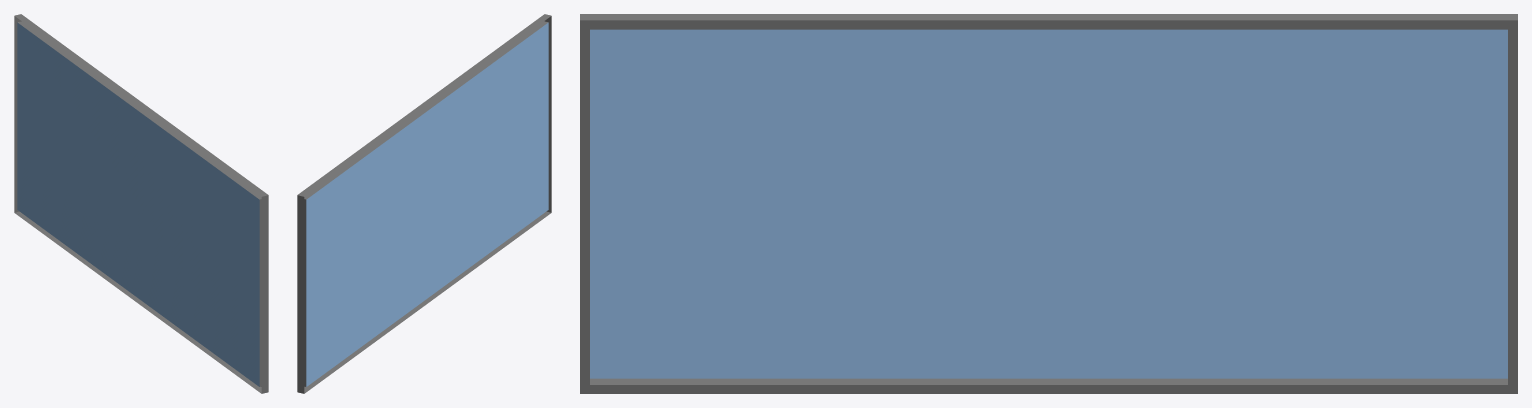
Rendered from P_Window_06.dae.
3 views of the same model, side by side, from view 1: azimuth 30°, elevation 25°; view 2: azimuth 150°, elevation 25°; view 3: azimuth 270°, elevation 25° (orthographic). The views are drawn at different scales.
Visible parts, largest first — view 1: Window_06; view 2: Window_06; view 3: Window_06.
Part boxes in pixels (box(x1,y1,x2,y2)): Window_06: box(14, 14, 268, 393); Window_06: box(297, 14, 551, 393); Window_06: box(580, 14, 1517, 393).
Size of the model in its own units: 0.0994 by 6.07 by 2.67.
